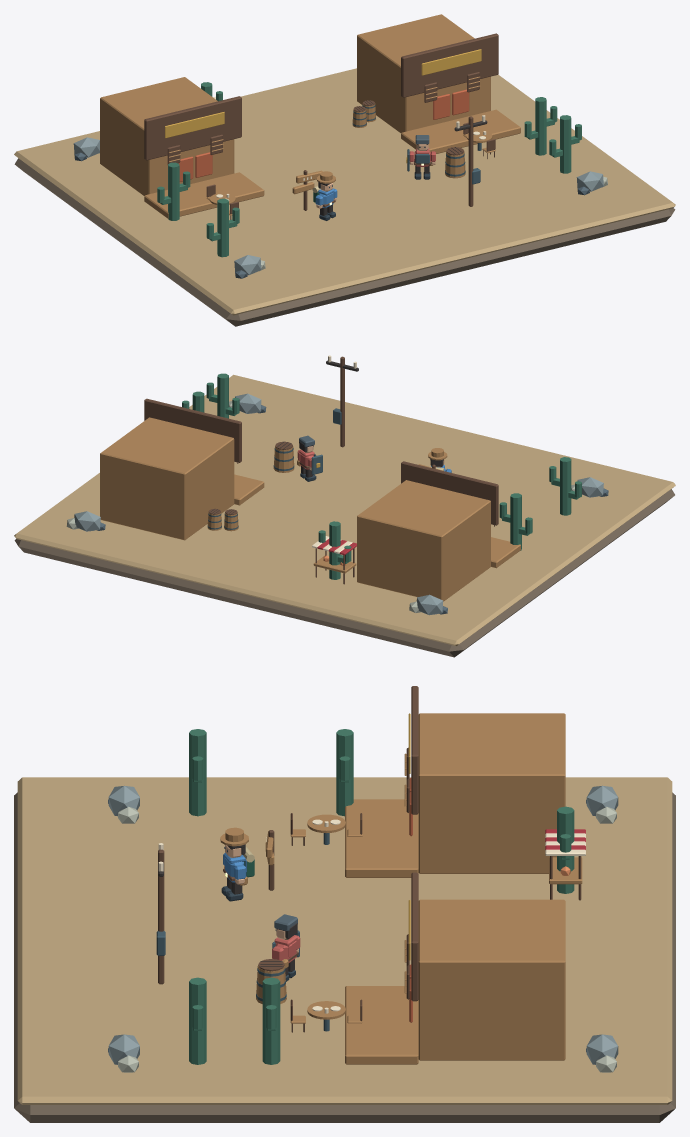
The model's file is world-western.glb.
3 renders of one model, top to bottom at view 1: azimuth 30°, elevation 25°; view 2: azimuth 150°, elevation 25°; view 3: azimuth 270°, elevation 25°, orthographic. The views are drawn at different scales.
Visible parts, largest first — view 1: terrain-top, saloon.001, saloon, terrain-stratum, false-front, false-front.001, porch.001, porch, saloon-sign.001, saloon-sign, cactus-stem.004, cactus-stem.002 (+3 smaller); view 2: terrain-top, saloon.001, saloon, terrain-stratum, false-front.001, false-front, cactus-stem.001, porch.001, cactus-stem.004, porch, cactus-stem.003, cactus-stem.002; view 3: terrain-top, saloon.001, saloon, terrain-stratum, porch.001, porch, cactus-stem.005, cactus-stem.001, cactus-stem.002, cactus-stem.004, false-front.001, false-front (+6 smaller).
Part boxes in pixels (bbox=[...]): terrain-top: bbox=[14, 68, 675, 315]; saloon.001: bbox=[357, 14, 490, 133]; saloon: bbox=[100, 77, 234, 195]; terrain-stratum: bbox=[14, 158, 675, 326]; false-front: bbox=[144, 96, 241, 160]; false-front.001: bbox=[401, 33, 498, 97]; porch.001: bbox=[401, 109, 520, 153]; porch: bbox=[144, 172, 264, 218]; saloon-sign.001: bbox=[421, 49, 481, 75]; saloon-sign: bbox=[165, 112, 224, 138]; cactus-stem.004: bbox=[168, 162, 179, 220]; cactus-stem.002: bbox=[560, 115, 571, 173]; terrain-top: bbox=[14, 374, 675, 646]; saloon.001: bbox=[100, 417, 234, 540]; saloon: bbox=[357, 480, 490, 601]; terrain-stratum: bbox=[14, 489, 674, 657]; false-front.001: bbox=[144, 398, 241, 462]; false-front: bbox=[401, 461, 498, 525]; cactus-stem.001: bbox=[560, 457, 571, 515]; porch.001: bbox=[234, 474, 264, 505]; cactus-stem.004: bbox=[510, 493, 521, 550]; porch: bbox=[491, 537, 520, 568]; cactus-stem.003: bbox=[329, 521, 340, 579]; cactus-stem.002: bbox=[217, 373, 228, 418]; terrain-top: bbox=[17, 777, 672, 1104]; saloon.001: bbox=[418, 899, 565, 1060]; saloon: bbox=[418, 713, 565, 873]; terrain-stratum: bbox=[14, 792, 675, 1122]; porch.001: bbox=[345, 986, 418, 1064]; porch: bbox=[345, 799, 418, 877]; cactus-stem.005: bbox=[262, 977, 280, 1064]; cactus-stem.001: bbox=[189, 729, 206, 816]; cactus-stem.002: bbox=[189, 977, 206, 1064]; cactus-stem.004: bbox=[336, 729, 353, 816]; false-front.001: bbox=[411, 872, 418, 1001]; false-front: bbox=[411, 686, 418, 814].
Size of the model in its own units: 21 by 4.89 by 18.
